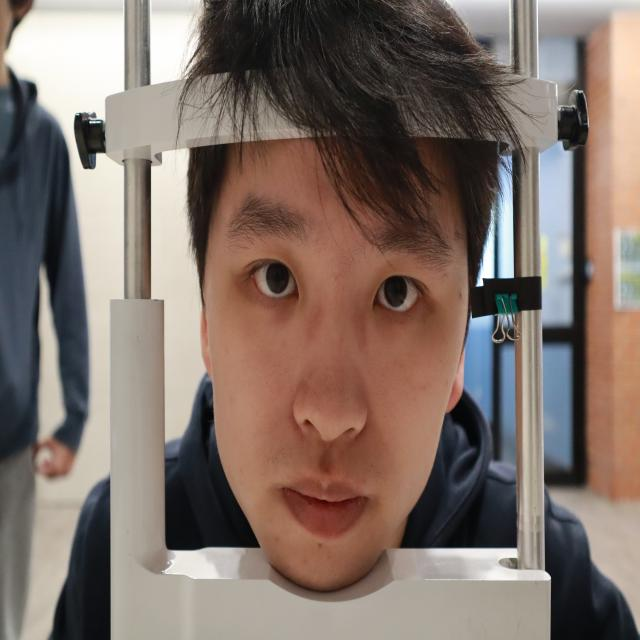gaze: (383, 273, 410, 309), (265, 259, 291, 294)
